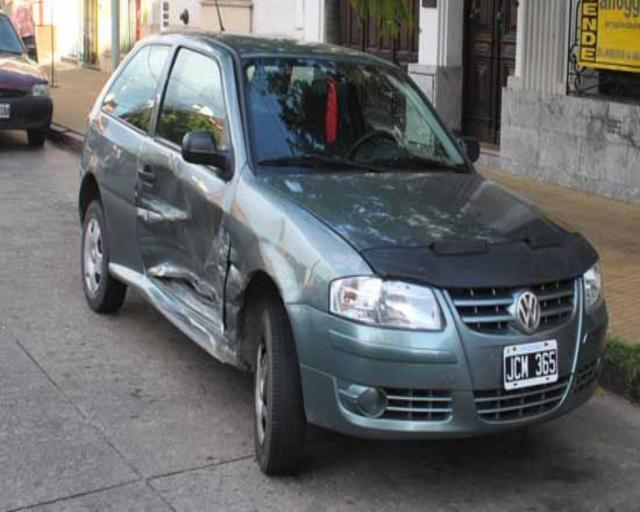dent: (126, 143, 256, 385), (254, 214, 340, 337)
